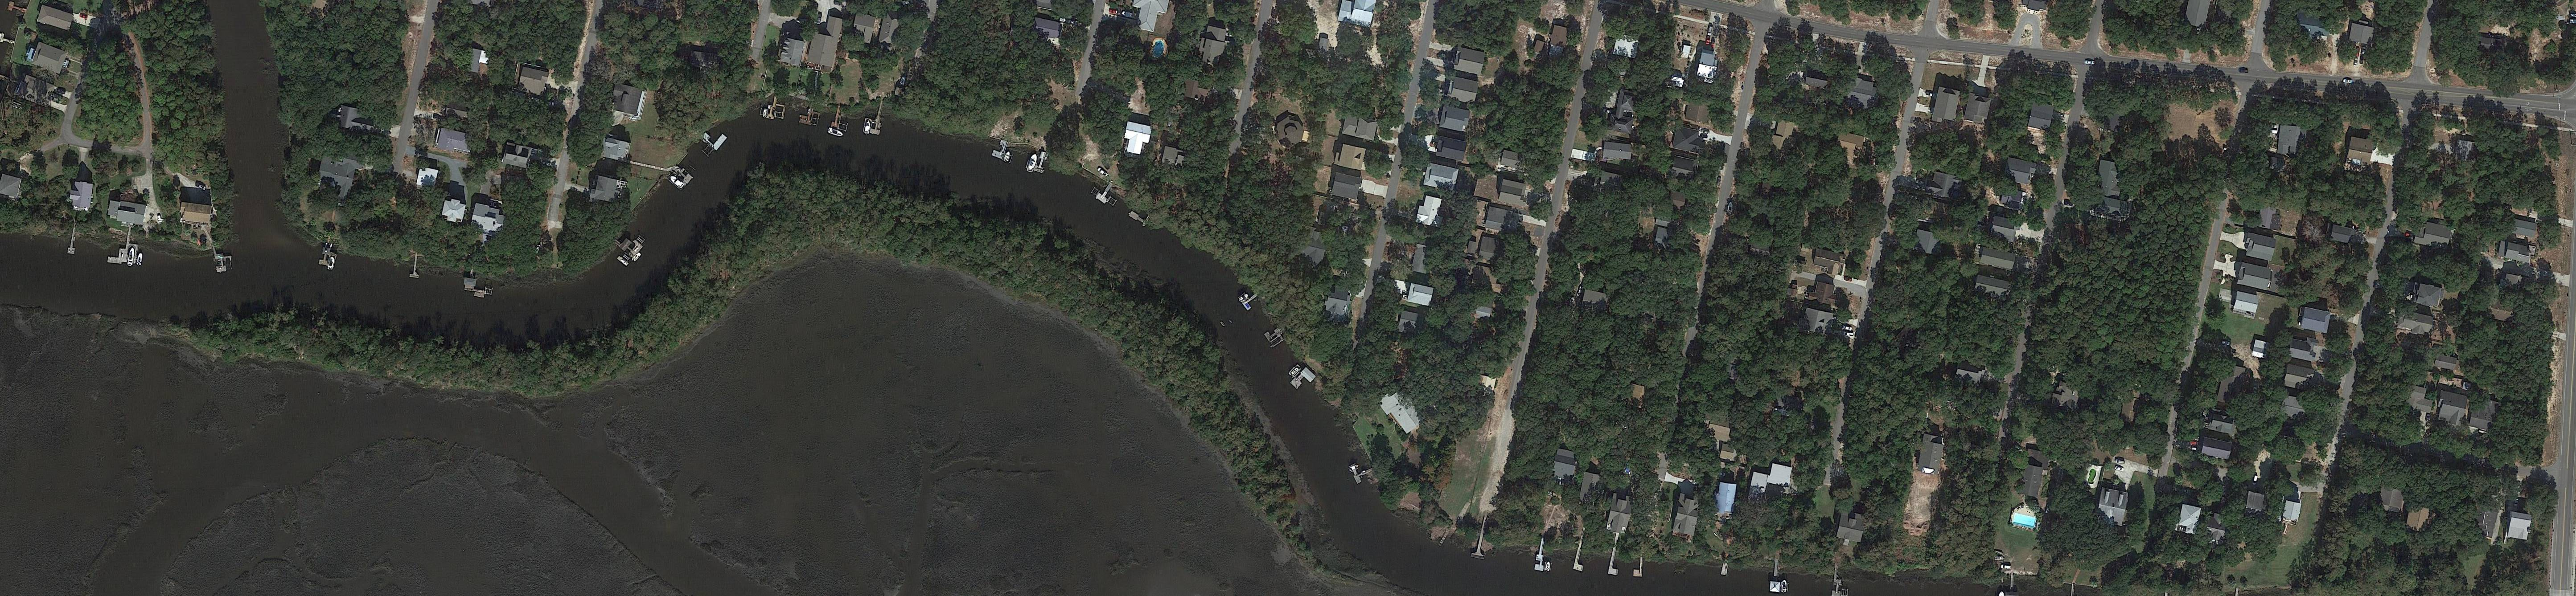harbor: (107, 225, 140, 268), (614, 227, 649, 264), (1091, 179, 1122, 209), (462, 271, 494, 299), (1470, 516, 1492, 558), (1290, 364, 1319, 394), (700, 123, 728, 153), (862, 100, 885, 135), (798, 99, 823, 126), (1608, 535, 1625, 576), (830, 105, 853, 133), (766, 92, 787, 121), (1832, 565, 1851, 596), (1574, 535, 1590, 571), (1263, 325, 1288, 348), (1350, 463, 1377, 484), (319, 240, 338, 268), (672, 163, 693, 186), (1769, 560, 1784, 593), (1534, 539, 1549, 571), (991, 138, 1010, 161), (1033, 149, 1051, 174), (212, 246, 227, 274), (67, 223, 79, 254), (409, 253, 422, 279), (1242, 294, 1262, 310), (1129, 210, 1147, 225), (1633, 557, 1644, 578)
